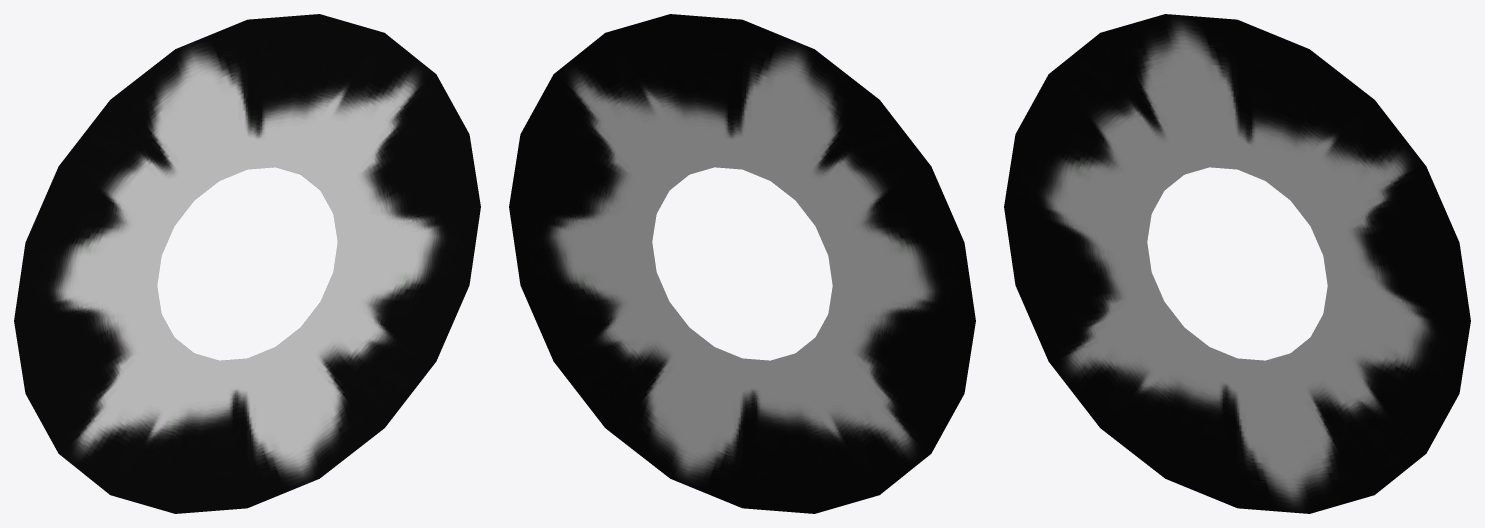
File: FireBall_Effect.fbx
The picture shows the model from 3 angles, left to right: view 1: azimuth 30°, elevation 25°; view 2: azimuth 150°, elevation 25°; view 3: azimuth 330°, elevation 25°; orthographic projection.
Visible parts, largest first — view 1: SM_EFF_Fireball_B_01.mo; view 2: SM_EFF_Fireball_B_01.mo; view 3: SM_EFF_Fireball_B_01.mo.
Part boxes in pixels (left/top/right/bottom): SM_EFF_Fireball_B_01.mo: left=14, top=14, right=480, bottom=513; SM_EFF_Fireball_B_01.mo: left=509, top=14, right=975, bottom=513; SM_EFF_Fireball_B_01.mo: left=1004, top=14, right=1470, bottom=513.
Size of the model in its own units: 594 by 594 by 0.000111.
